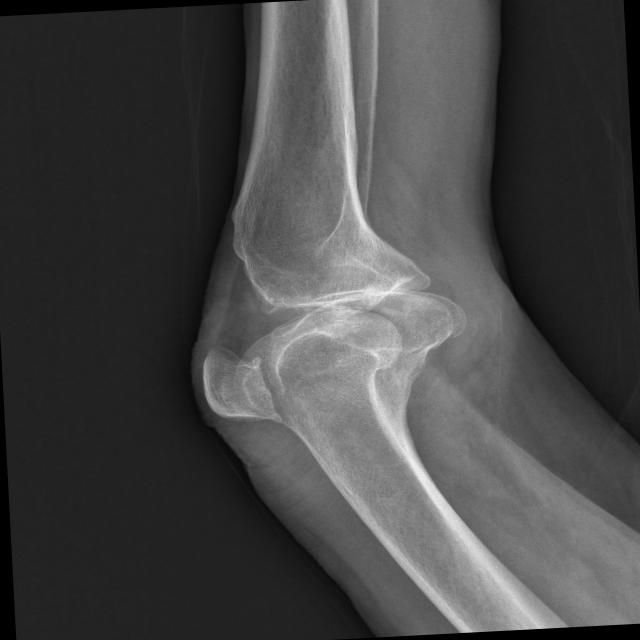Knee: (198, 232, 470, 418)
